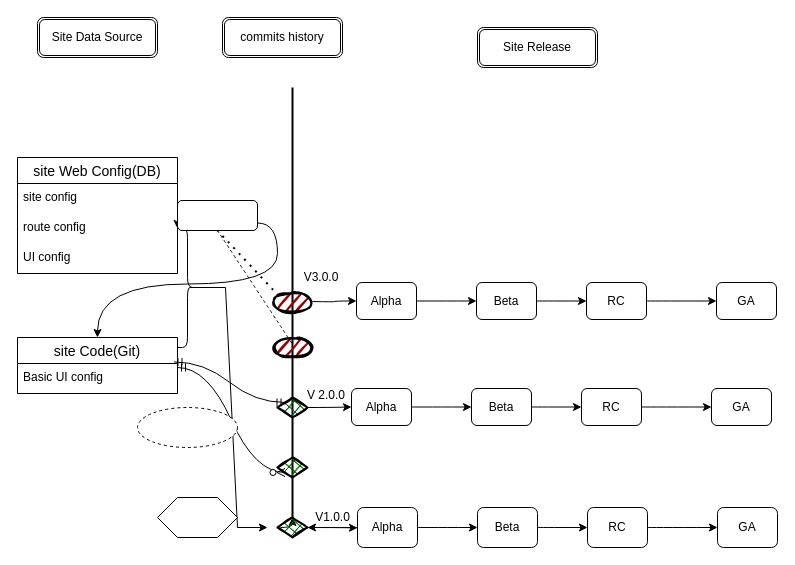
Image size: 795x565. Some labels were removed from this diagram. The centre of each missing label's shape, as x and y in pixels:
"Code update" goes at [187,427].
"Commit Button" goes at [217,215].
"New Site" goes at [197,517].
